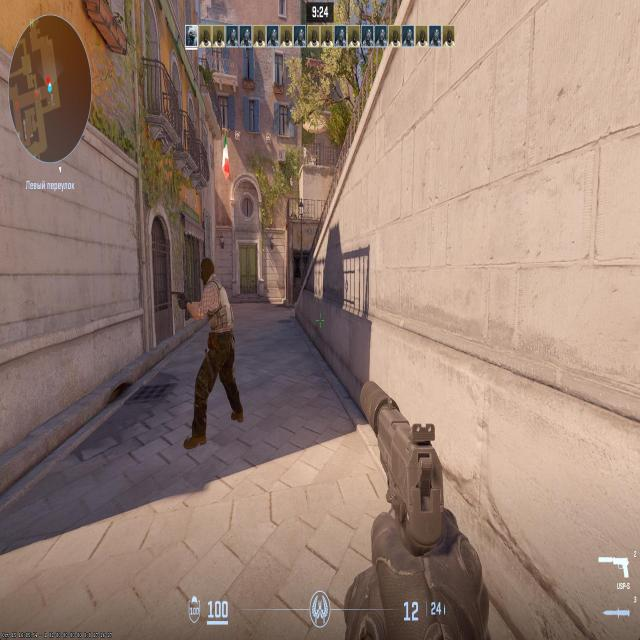T: (196, 257, 234, 416)
T_heat: (200, 264, 212, 290)
